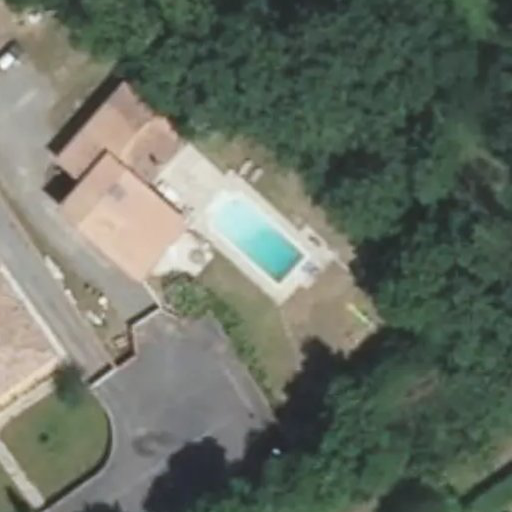pool: (198, 223, 308, 254)
